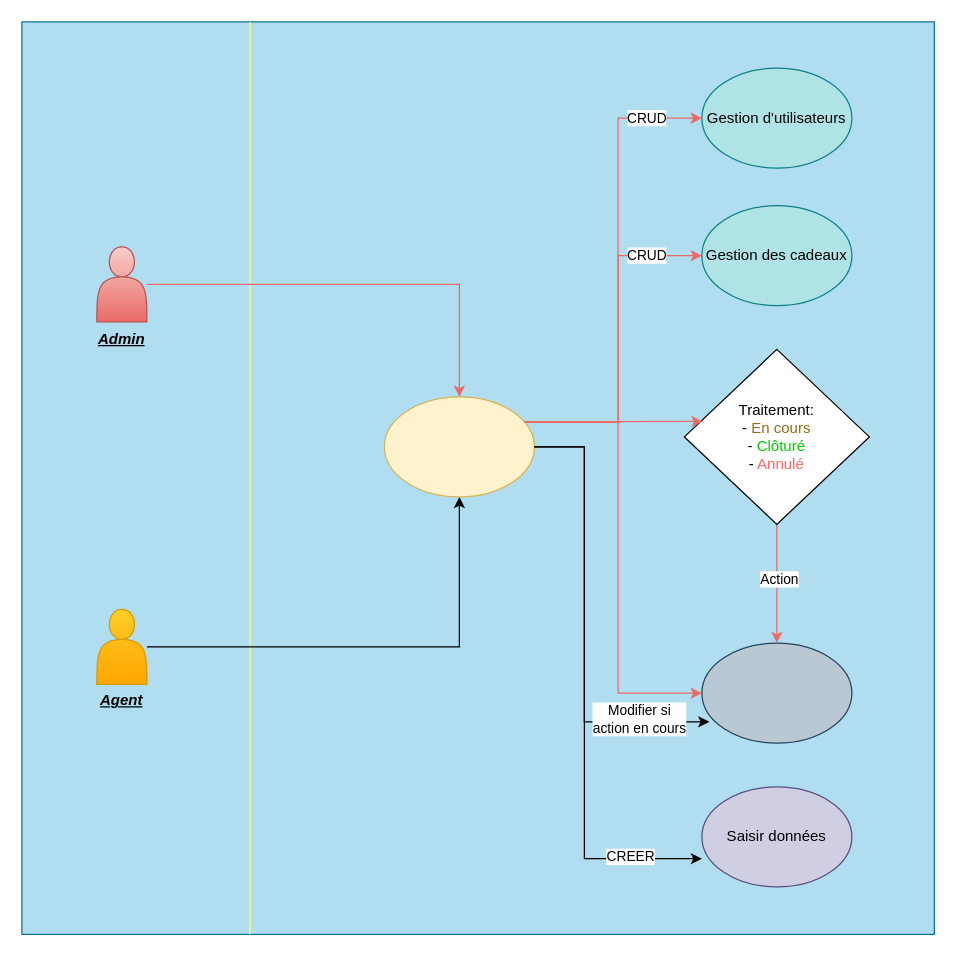
Some shapes in this 956 by 958 pixel diagram are drawn without their labels. Each missing label, with the box of its shape:
Connexion: (383, 396, 534, 497)
Données enregistrées: (701, 642, 852, 743)
